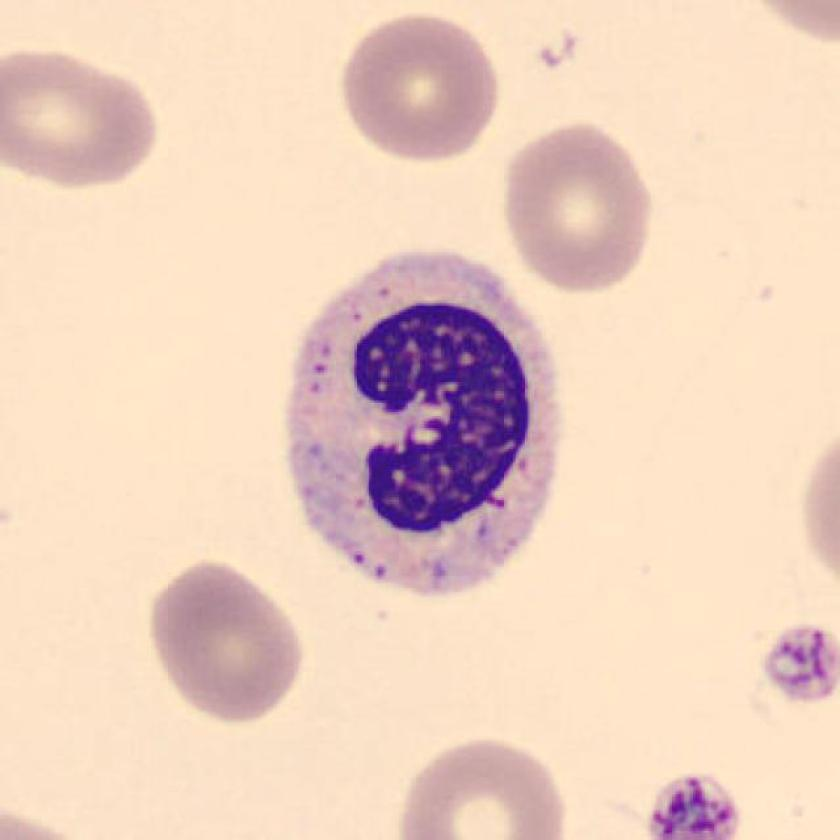neutrophil: (285, 252, 558, 592)
